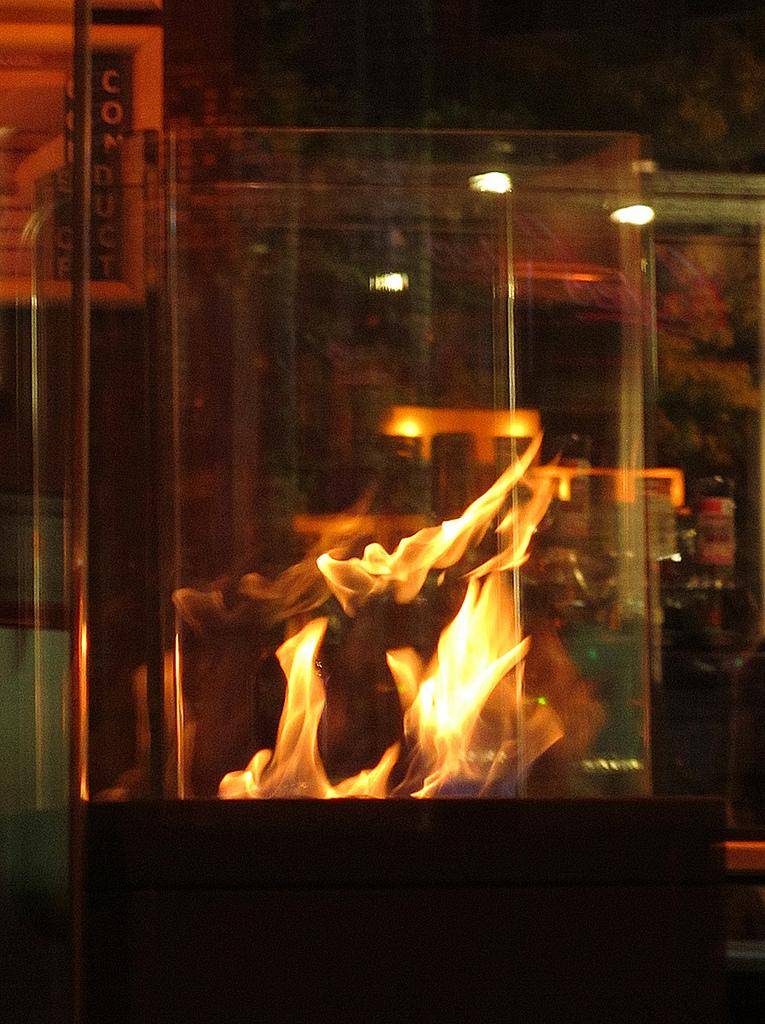fire: (418, 550, 540, 765), (265, 628, 340, 792)
